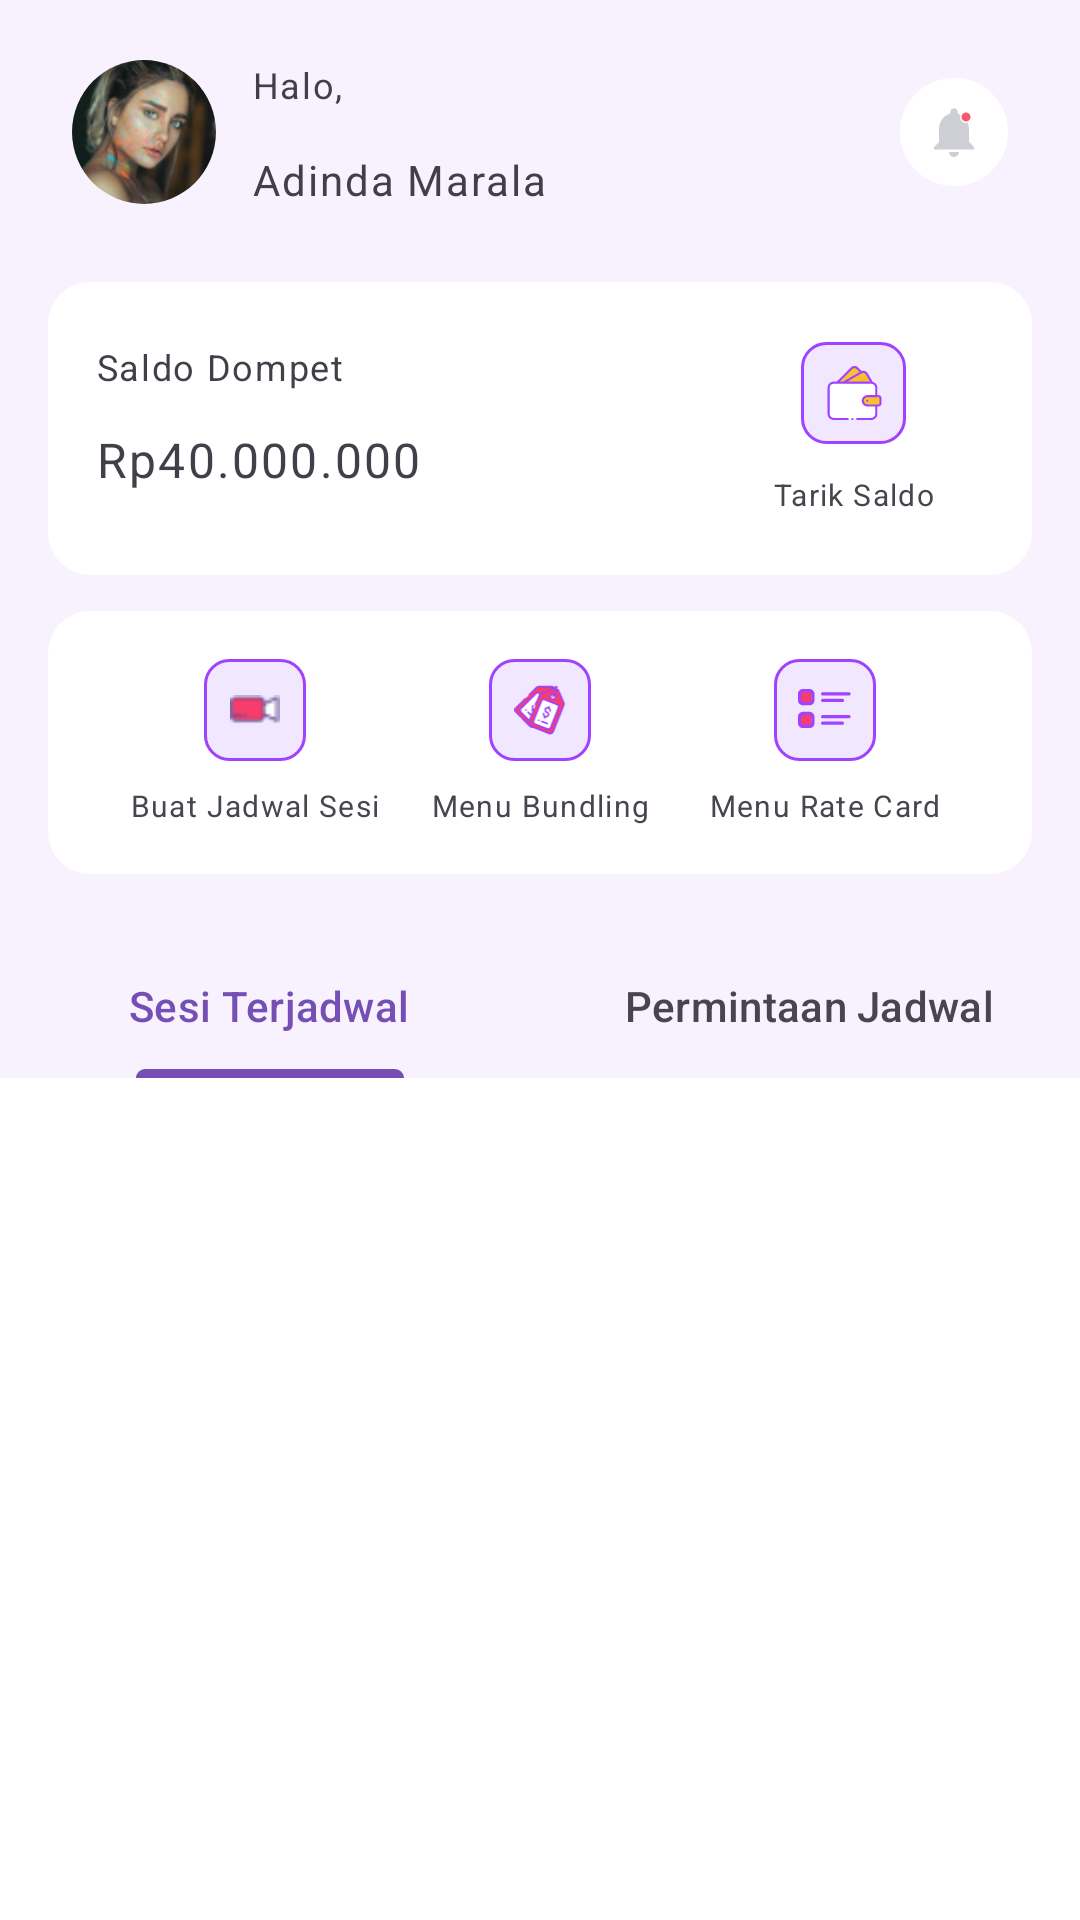

Icons on this 1080×1920 Android screen, each with the point to tap as point (x, y):
camera video: point (255, 710)
kreator: point (144, 132)
notifications: point (954, 132)
price tag: point (540, 710)
wallet: point (853, 393)
